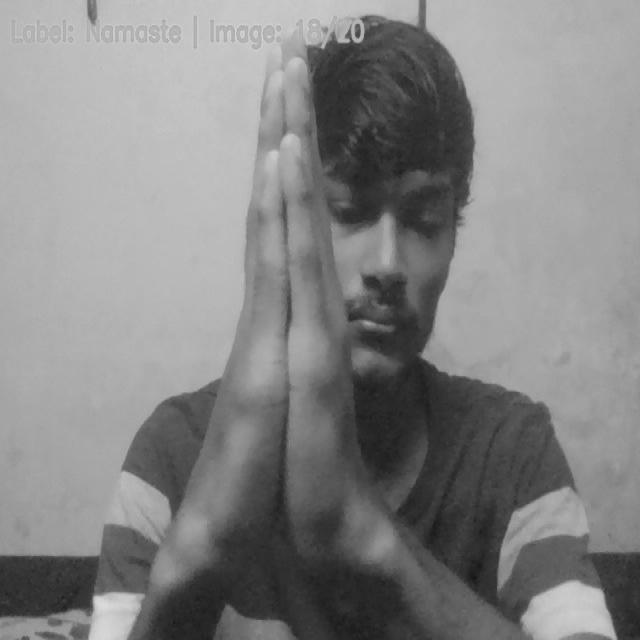Namaste: (218, 42, 358, 553)
